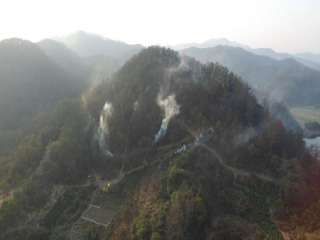smoke: (90, 59, 208, 162)
